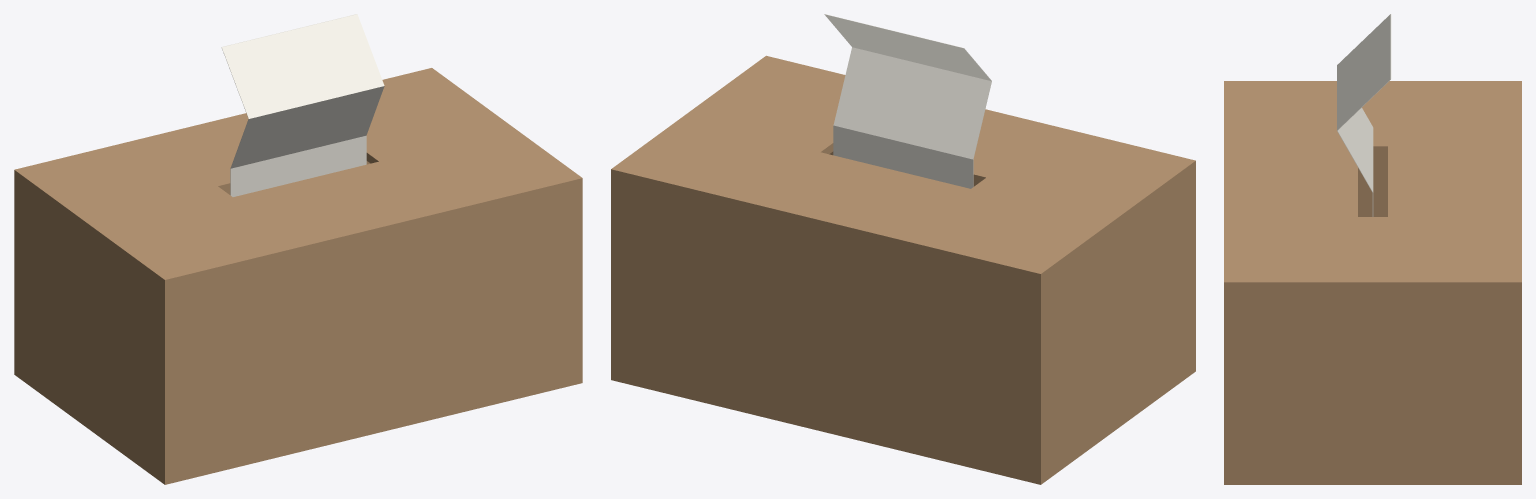
The model's file is before-tissue.glb.
3 views of the same model, side by side, from view 1: azimuth 30°, elevation 25°; view 2: azimuth 150°, elevation 25°; view 3: azimuth 270°, elevation 25° (orthographic). The views are drawn at different scales.
Parts seen in each view (by area): view 1: life-tissue-side-front, life-tissue-lid, life-tissue-side-left, life-tissue-paper, life-tissue-base, life-tissue-side-right; view 2: life-tissue-side-back, life-tissue-lid, life-tissue-side-left, life-tissue-paper, life-tissue-base, life-tissue-side-right; view 3: life-tissue-lid, life-tissue-side-right, life-tissue-paper, life-tissue-base, life-tissue-side-left.
Boxes of the visible parts, <box> form: life-tissue-side-front: <box>172,188,574,474</box>; life-tissue-lid: <box>14,68,582,287</box>; life-tissue-side-left: <box>14,178,172,476</box>; life-tissue-paper: <box>221,14,384,196</box>; life-tissue-base: <box>14,367,582,484</box>; life-tissue-side-right: <box>575,186,582,376</box>; life-tissue-side-back: <box>619,179,1032,474</box>; life-tissue-lid: <box>611,55,1195,282</box>; life-tissue-side-left: <box>1032,169,1195,476</box>; life-tissue-paper: <box>824,14,991,188</box>; life-tissue-base: <box>611,363,1195,484</box>; life-tissue-side-right: <box>611,177,618,373</box>; life-tissue-lid: <box>1224,81,1521,290</box>; life-tissue-side-right: <box>1224,290,1521,476</box>; life-tissue-paper: <box>1337,14,1391,216</box>; life-tissue-base: <box>1224,477,1521,484</box>; life-tissue-side-left: <box>1358,154,1387,216</box>.
Bounding box in the file's own units: 0.16 × 0.125 × 0.1.
